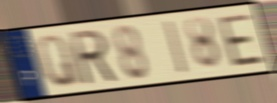8: (113, 23, 150, 82), (186, 16, 221, 74)
E: (216, 11, 267, 69)
I: (162, 18, 191, 77)
Q: (35, 32, 84, 89)
R: (67, 27, 120, 88)
